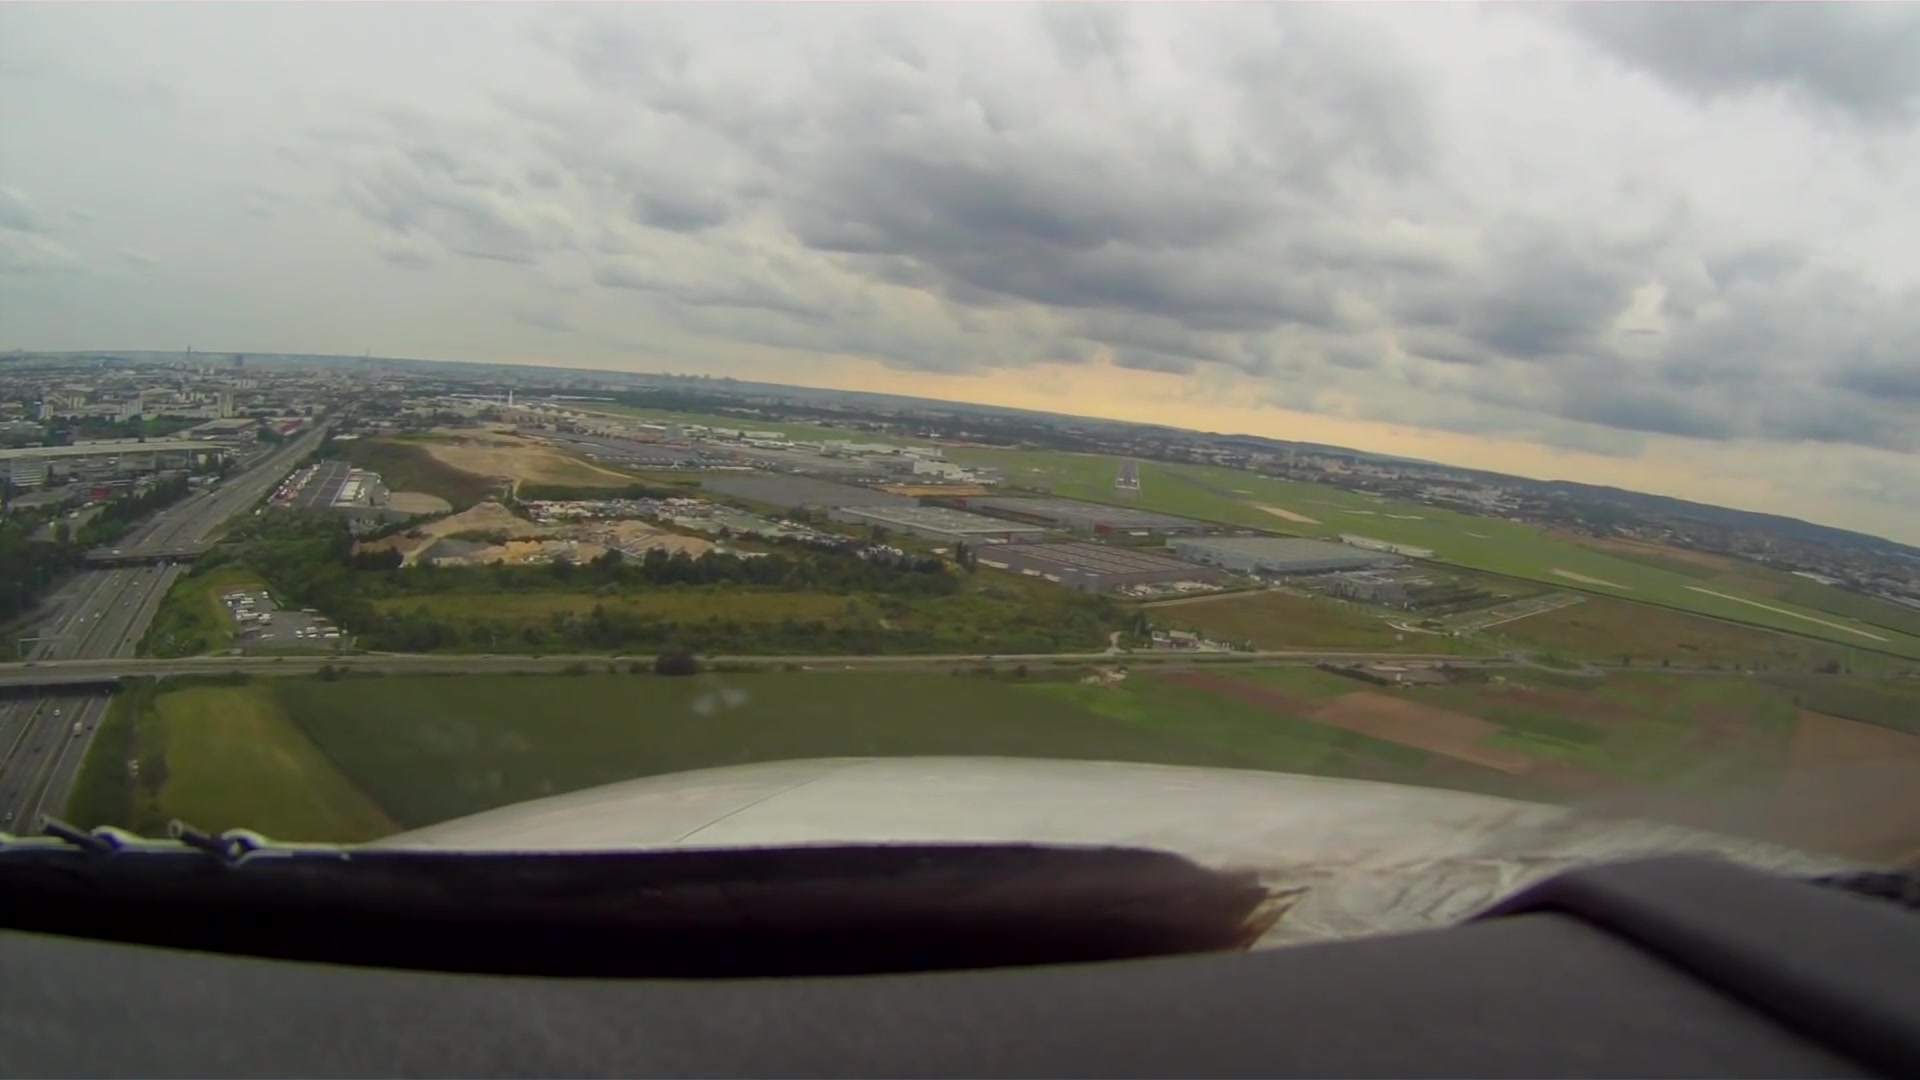runway: (1112, 456, 1141, 493)
